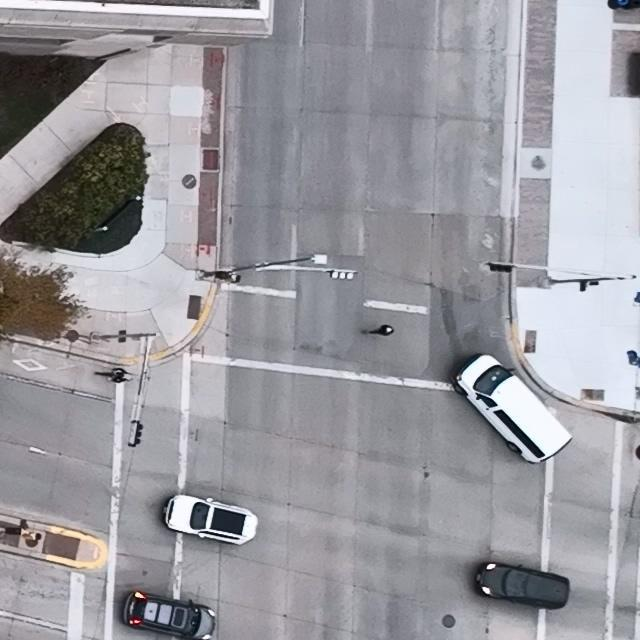car: (452, 354, 574, 464), (163, 494, 258, 546), (120, 590, 215, 640), (474, 562, 570, 609)
